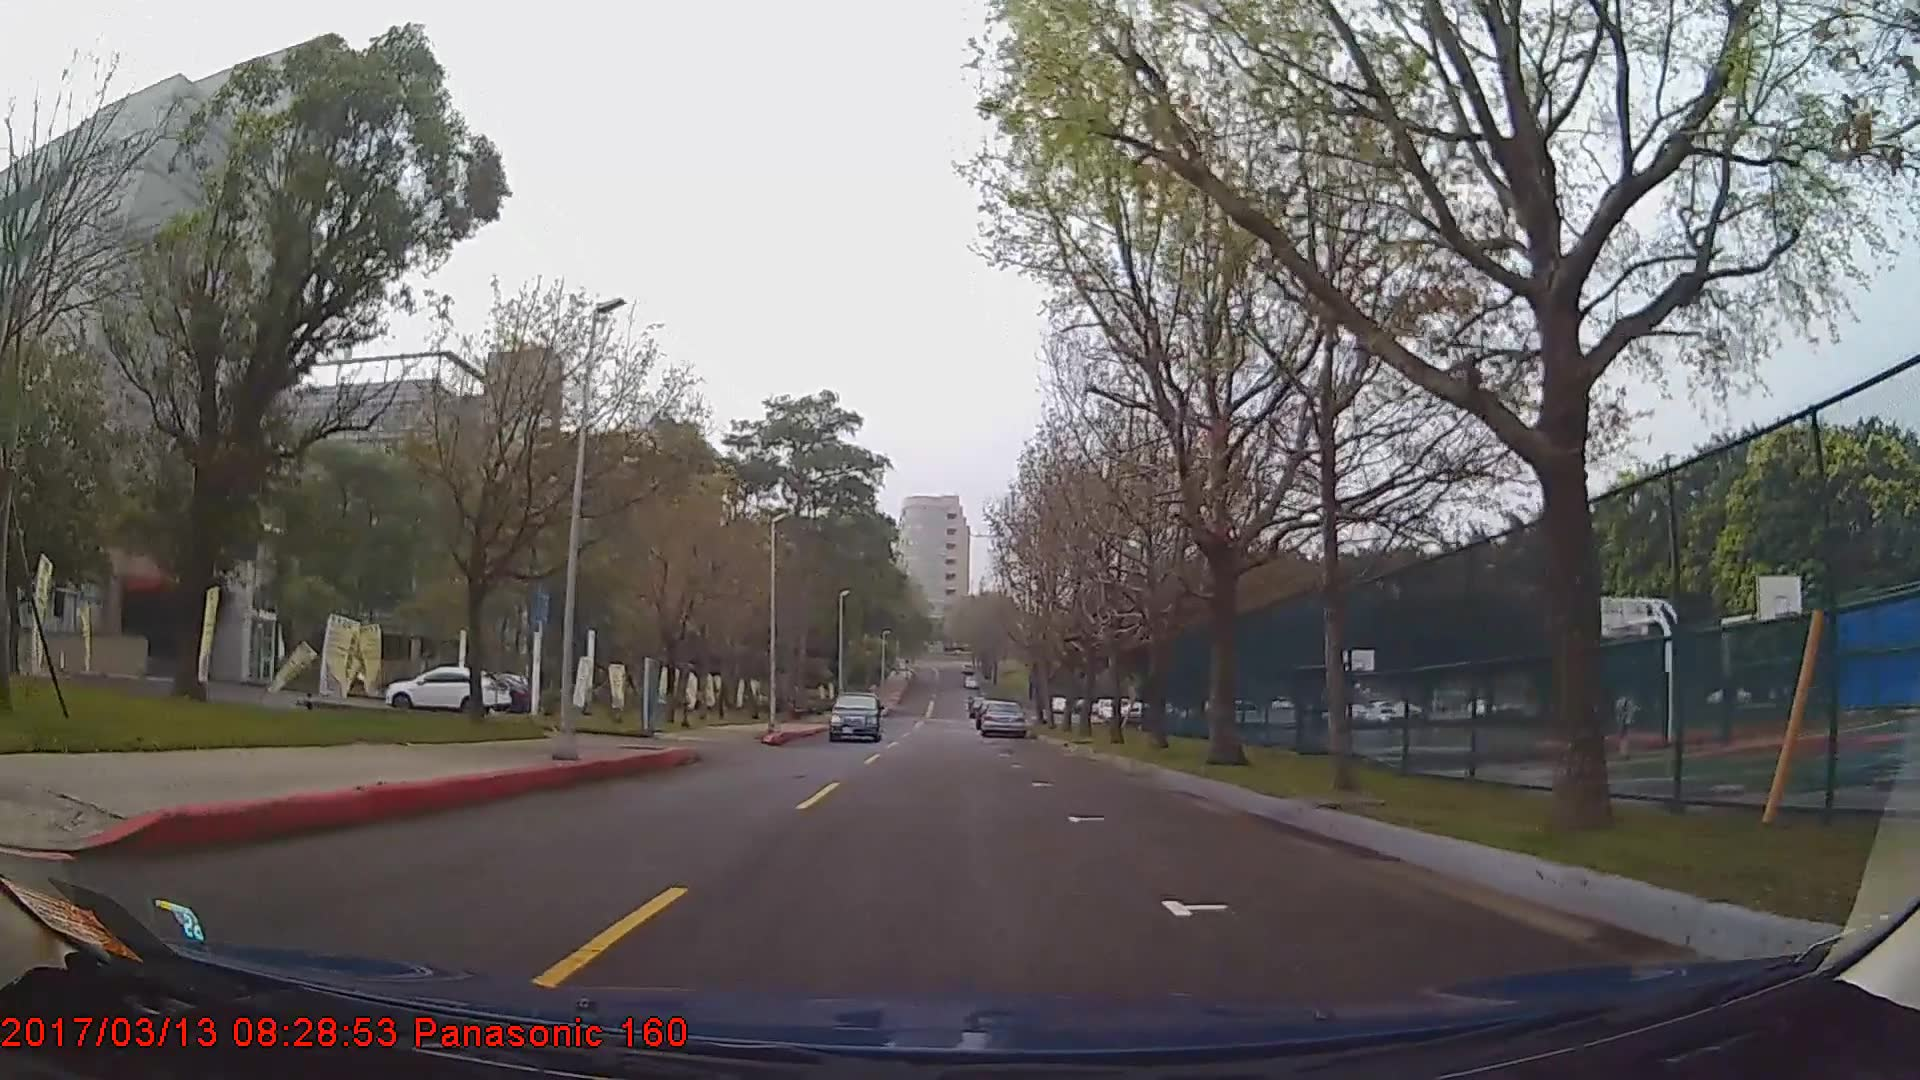vehicle: (382, 663, 508, 716), (828, 692, 881, 744), (978, 699, 1025, 740)
